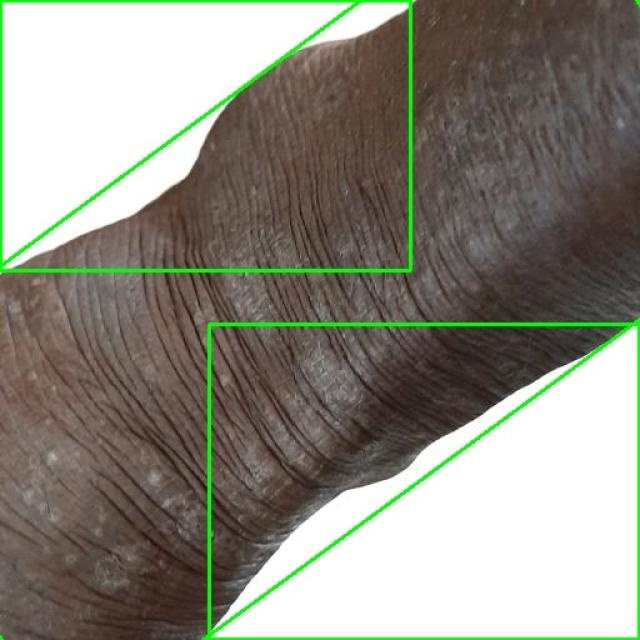Contact Dermatitis: (0, 0, 640, 640), (209, 324, 639, 639), (0, 0, 410, 270)
